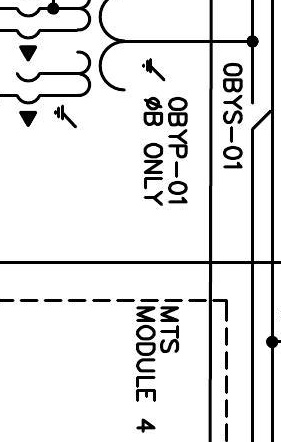115_ds: (250, 100, 271, 130)
